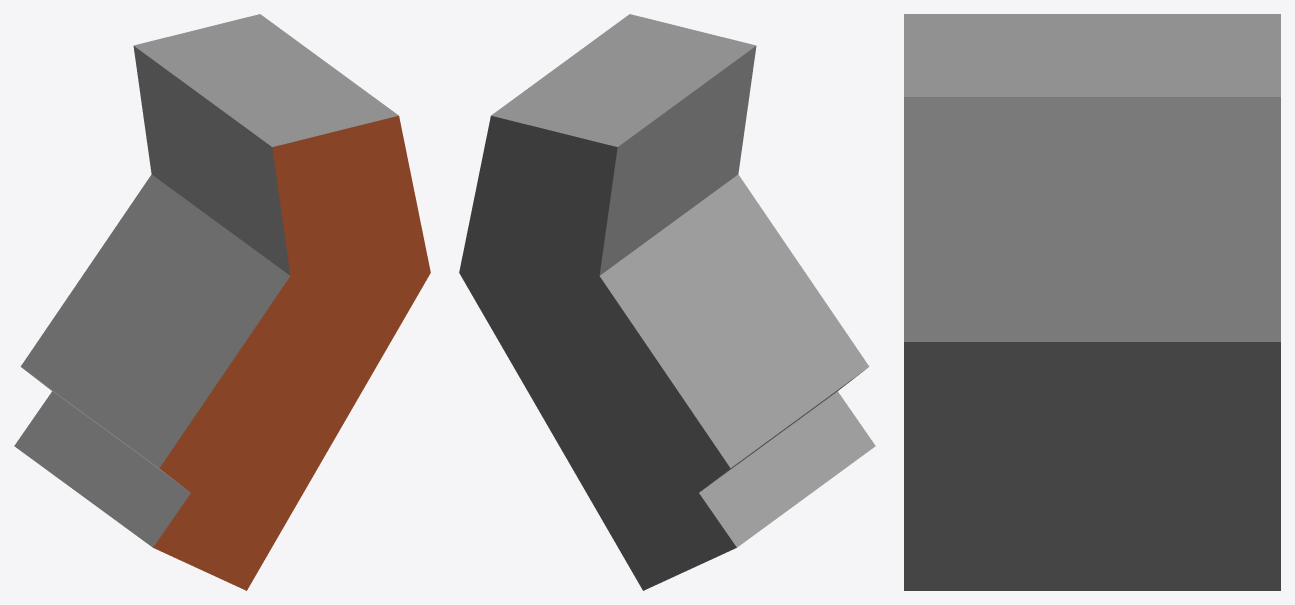
Rendered from construction_5788_assumed_A_Casa_h6m.obj.
The picture shows the model from 3 angles, left to right: view 1: azimuth 30°, elevation 25°; view 2: azimuth 150°, elevation 25°; view 3: azimuth 270°, elevation 25°; orthographic projection. The views are drawn at different scales.
Visible parts, largest first — view 1: construction_5788_assumed_A_Casa; view 2: construction_5788_assumed_A_Casa; view 3: construction_5788_assumed_A_Casa.
Boxes of the visible parts, left/top/right/bottom form: construction_5788_assumed_A_Casa: left=14, top=14, right=430, bottom=590; construction_5788_assumed_A_Casa: left=459, top=14, right=875, bottom=590; construction_5788_assumed_A_Casa: left=904, top=14, right=1280, bottom=590.
Size of the model in its own units: 6.93 by 10.45 by 6.
